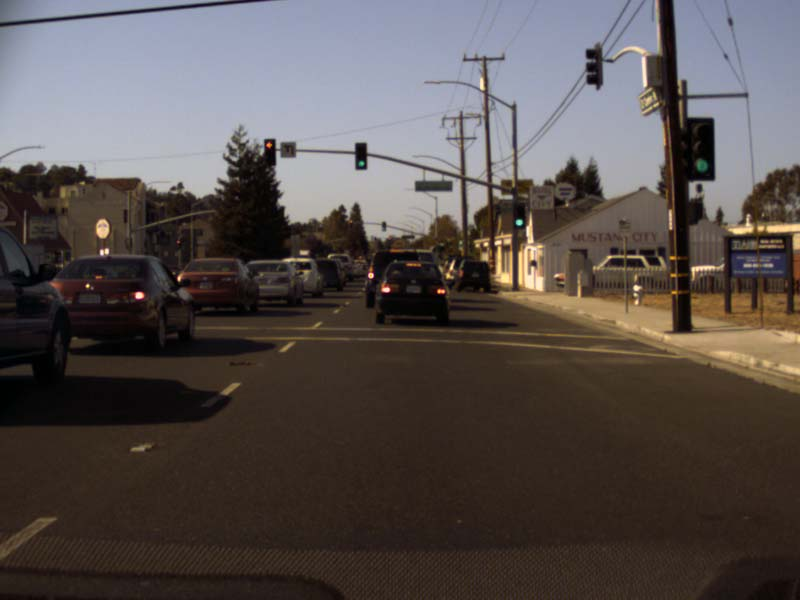Green: (686, 120, 714, 178), (512, 203, 525, 228), (355, 143, 366, 169), (382, 221, 386, 230)
Red: (264, 140, 274, 164), (349, 219, 352, 228)
